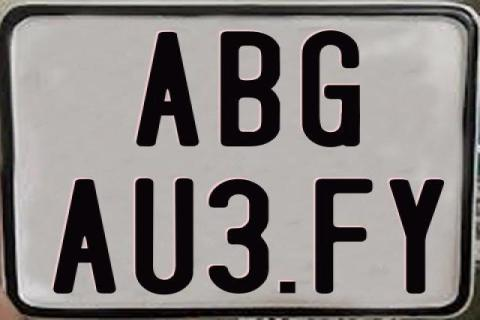0: (207, 178, 269, 294)
A: (136, 31, 203, 149), (54, 178, 117, 292)
B: (221, 31, 283, 147)
F: (314, 176, 373, 295)
G: (302, 30, 363, 146)
U: (135, 178, 197, 298)
Y: (388, 178, 448, 296)
